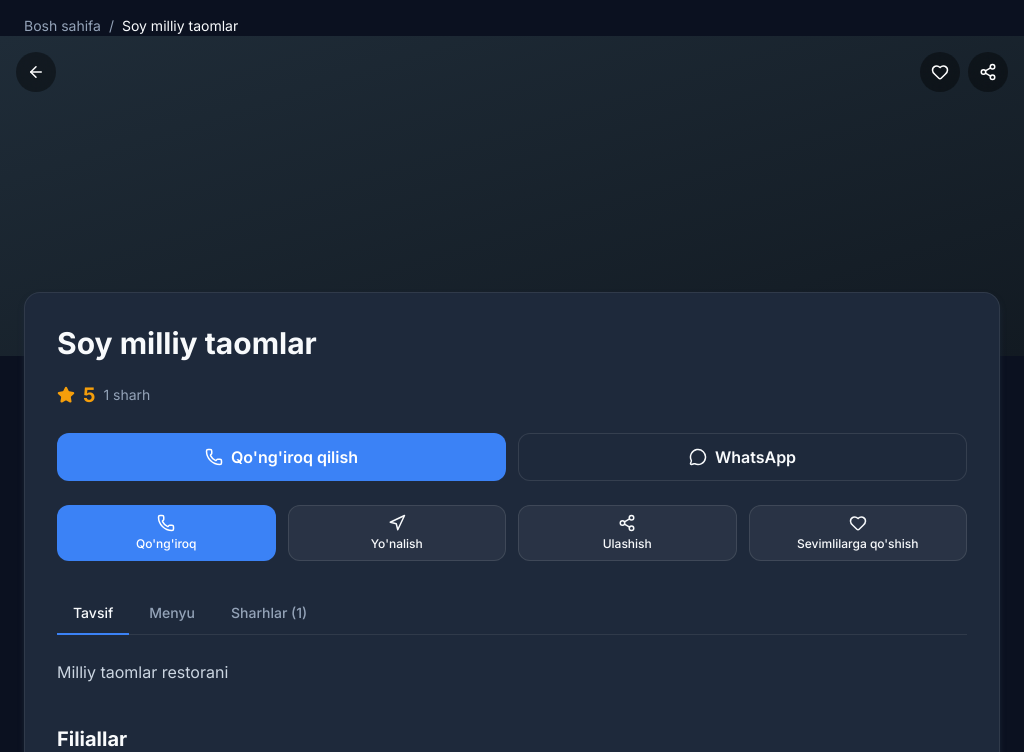
Test case: Catalog management control on the business page › is shown to the business owner
Click the button "Menyu".
click(172, 614)  # box 133,593 -> 211,635
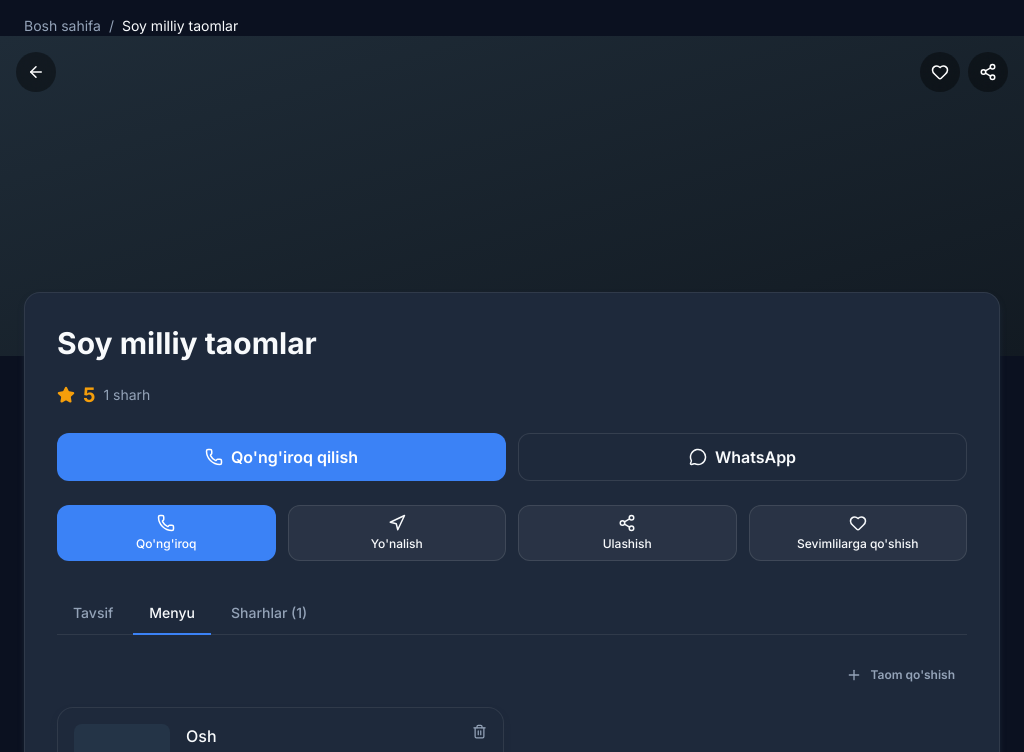
Now the button "Taom qo'shish" is shown, box 834,659 -> 967,691
